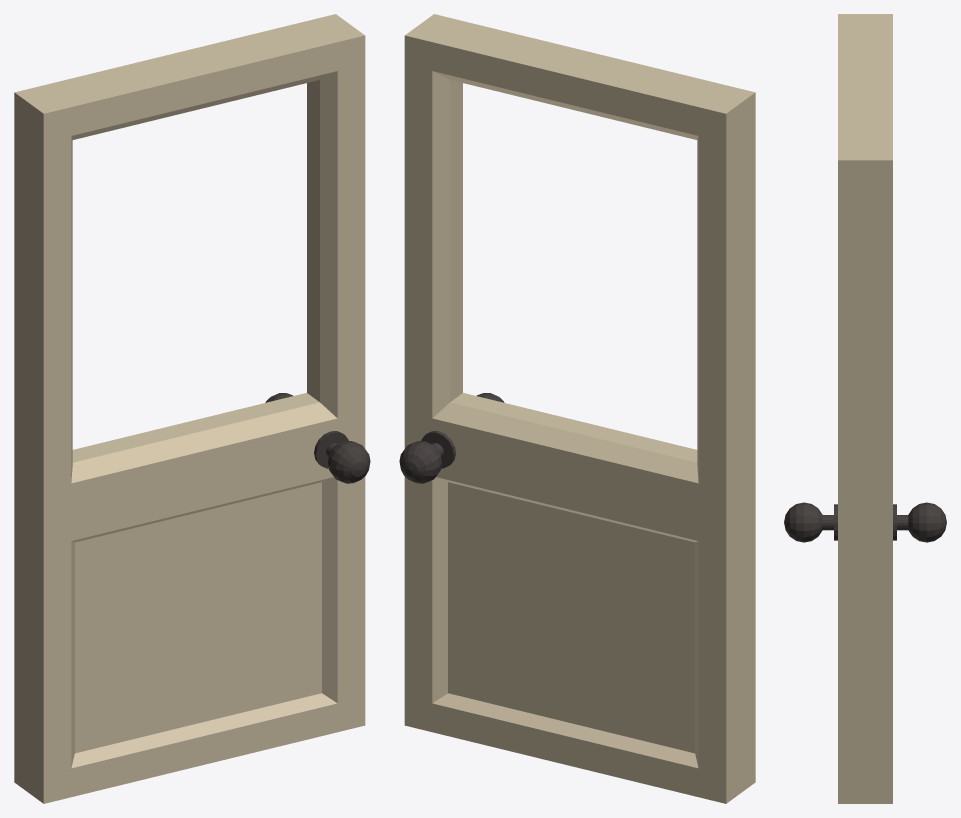
The model's file is Door with Window.fbx.
The picture shows the model from 3 angles, left to right: view 1: azimuth 30°, elevation 25°; view 2: azimuth 150°, elevation 25°; view 3: azimuth 270°, elevation 25°; orthographic projection. The views are drawn at different scales.
Parts seen in each view (by area): view 1: Cube; view 2: Cube; view 3: Cube.
Boxes of the visible parts, left/top/right/bottom form: Cube: left=14, top=14, right=370, bottom=803; Cube: left=399, top=14, right=755, bottom=803; Cube: left=784, top=14, right=946, bottom=803.
Bounding box in the file's own units: 200 × 410 × 94.18.
Materials: 1 (1 with a texture image).
